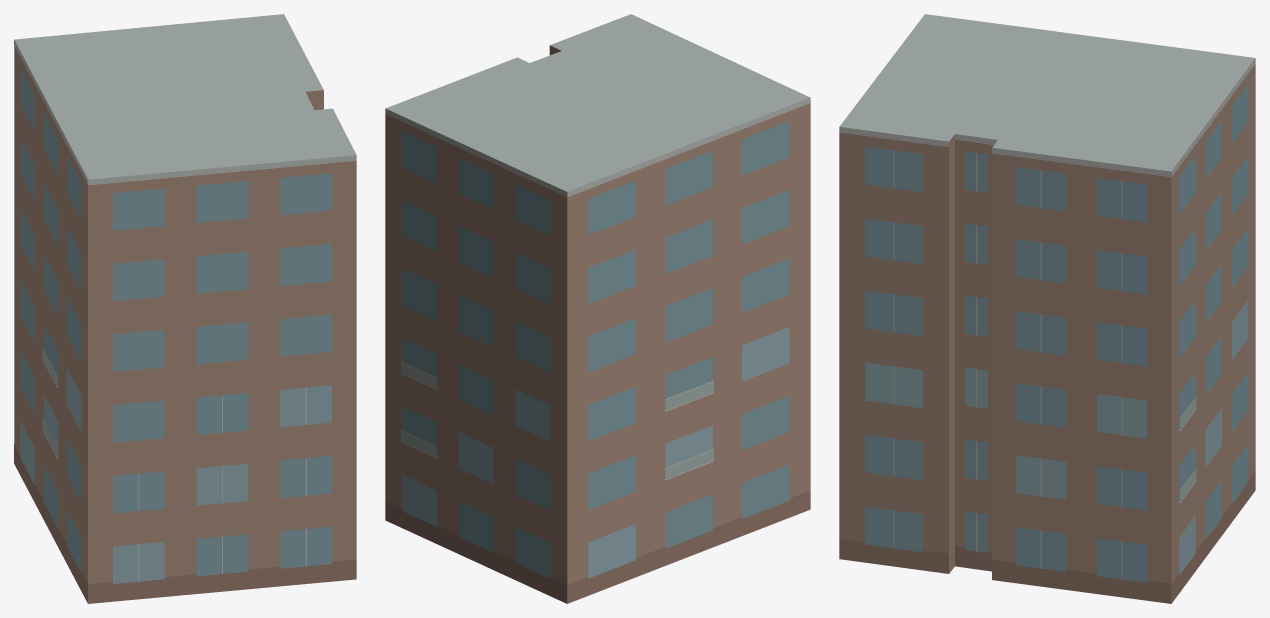
File: survey-upis-32742314.glb
The picture shows the model from 3 angles, left to right: view 1: azimuth 30°, elevation 25°; view 2: azimuth 150°, elevation 25°; view 3: azimuth 270°, elevation 25°; orthographic projection. The views are drawn at different scales.
Visible parts, largest first — view 1: survey-upis-32742314.tmp; view 2: survey-upis-32742314.tmp; view 3: survey-upis-32742314.tmp.
Boxes of the visible parts, x1,y1,x2,y2 form: survey-upis-32742314.tmp: (14, 14, 356, 603); survey-upis-32742314.tmp: (385, 14, 810, 603); survey-upis-32742314.tmp: (839, 14, 1255, 603).
Size of the model in its own units: 14.31 by 18.3 by 15.98.
